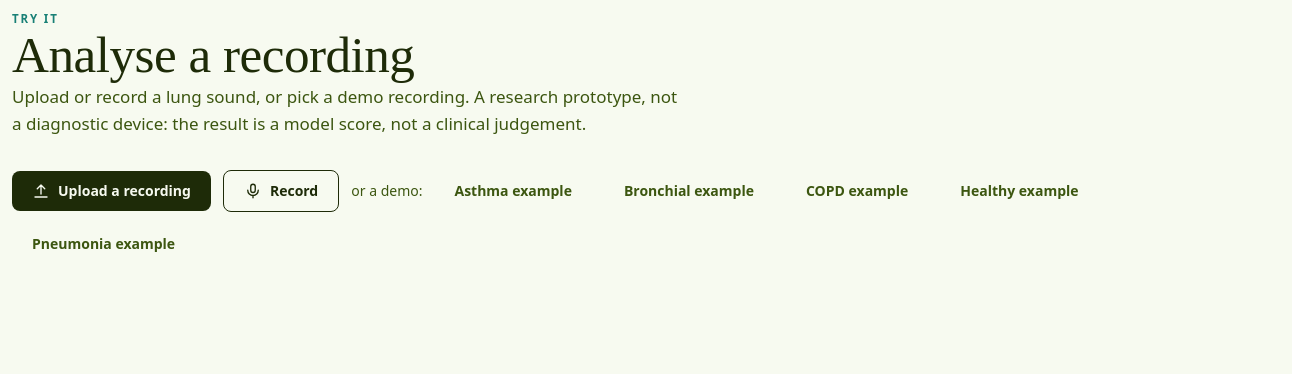
Scenario: keeps upload and demo available when the microphone is blocked
Click the button "Record".
click(281, 190)  # box [223, 170, 339, 212]
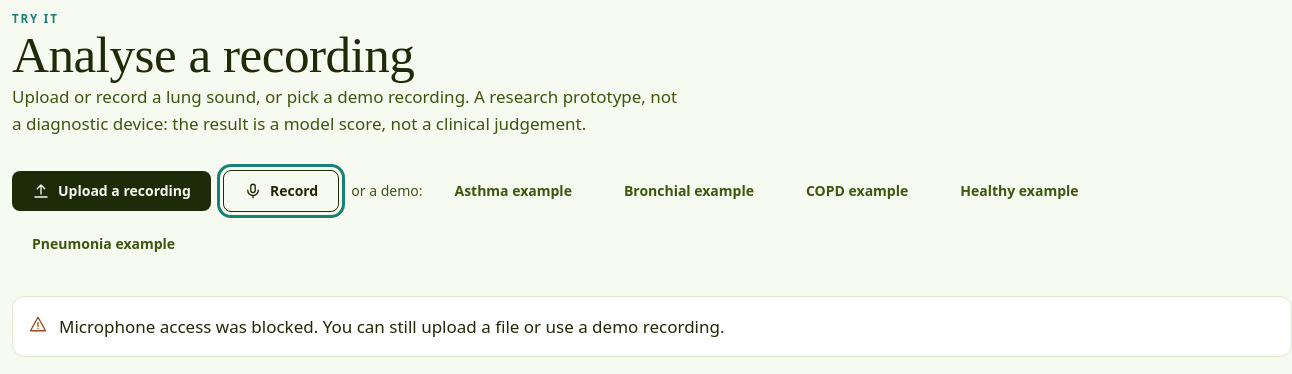
Check: the file field labelled "Upload a recording" is enabled, box [12, 170, 211, 210]
Check: the text "Microphone access was blocked" is shown, box [59, 314, 724, 338]
